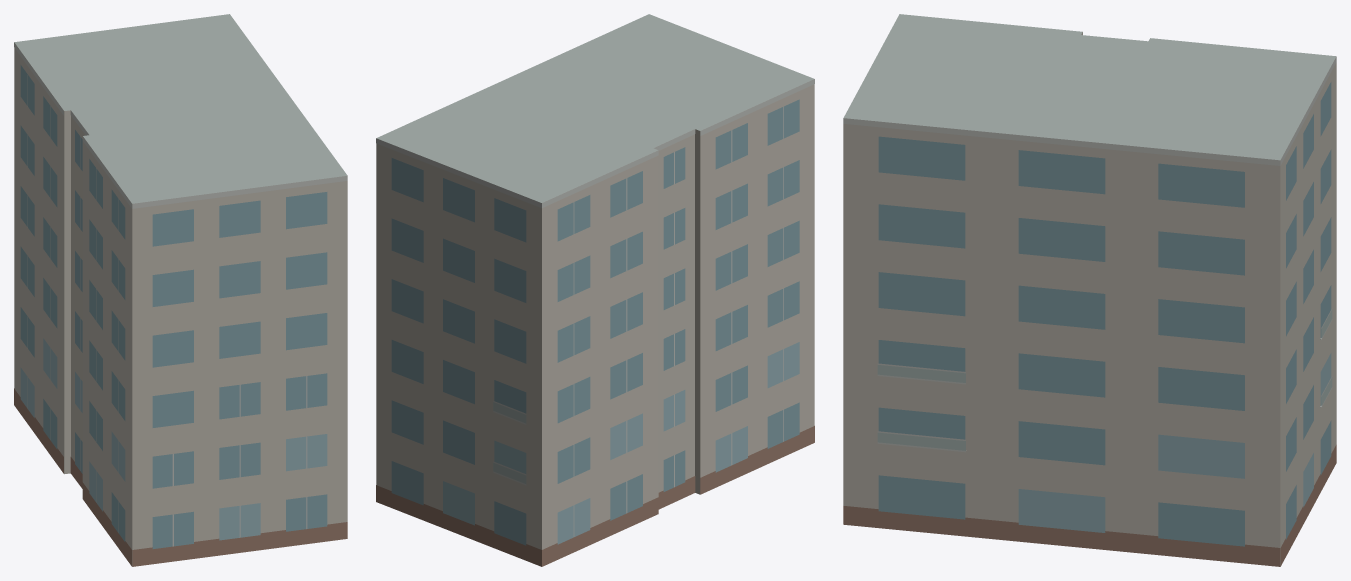
File: survey-upis-33014655.glb
3 renders of one model, left to right at view 1: azimuth 30°, elevation 25°; view 2: azimuth 150°, elevation 25°; view 3: azimuth 270°, elevation 25°, orthographic. The views are drawn at different scales.
Parts seen in each view (by area): view 1: survey-upis-33014655.tmp; view 2: survey-upis-33014655.tmp; view 3: survey-upis-33014655.tmp.
Boxes of the visible parts, bbox=[...] form: survey-upis-33014655.tmp: bbox=[14, 14, 347, 566]; survey-upis-33014655.tmp: bbox=[376, 14, 814, 566]; survey-upis-33014655.tmp: bbox=[843, 14, 1336, 566].
Size of the model in its own units: 13.44 by 17.4 by 19.14.
